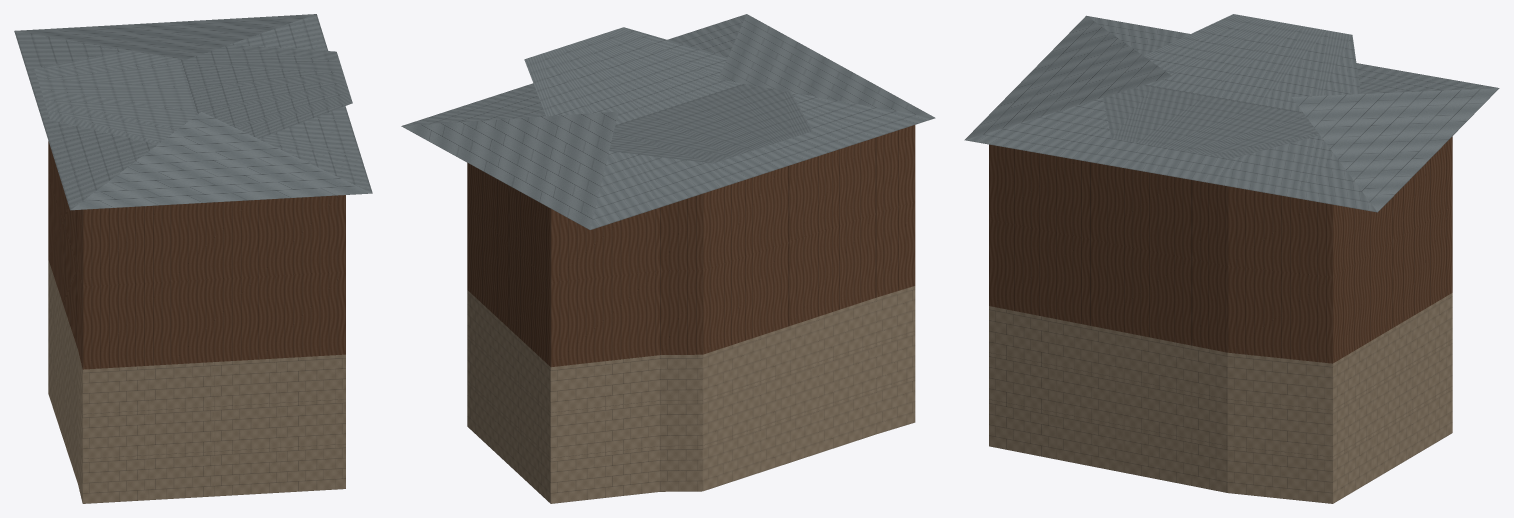
File: bld_c-20_17_522.gltf
3 renders of one model, left to right at view 1: azimuth 30°, elevation 25°; view 2: azimuth 150°, elevation 25°; view 3: azimuth 270°, elevation 25°, orthographic. The views are drawn at different scales.
Visible parts, largest first — view 1: bld_c-20_17_522; view 2: bld_c-20_17_522; view 3: bld_c-20_17_522.
Part boxes in pixels (x1,y1,x2,y2): bld_c-20_17_522: (14, 14, 372, 503); bld_c-20_17_522: (401, 14, 935, 503); bld_c-20_17_522: (964, 14, 1499, 503).
Size of the model in its own units: 15.33 by 12.4 by 17.63.
Materials: 3 (3 with a texture image).
